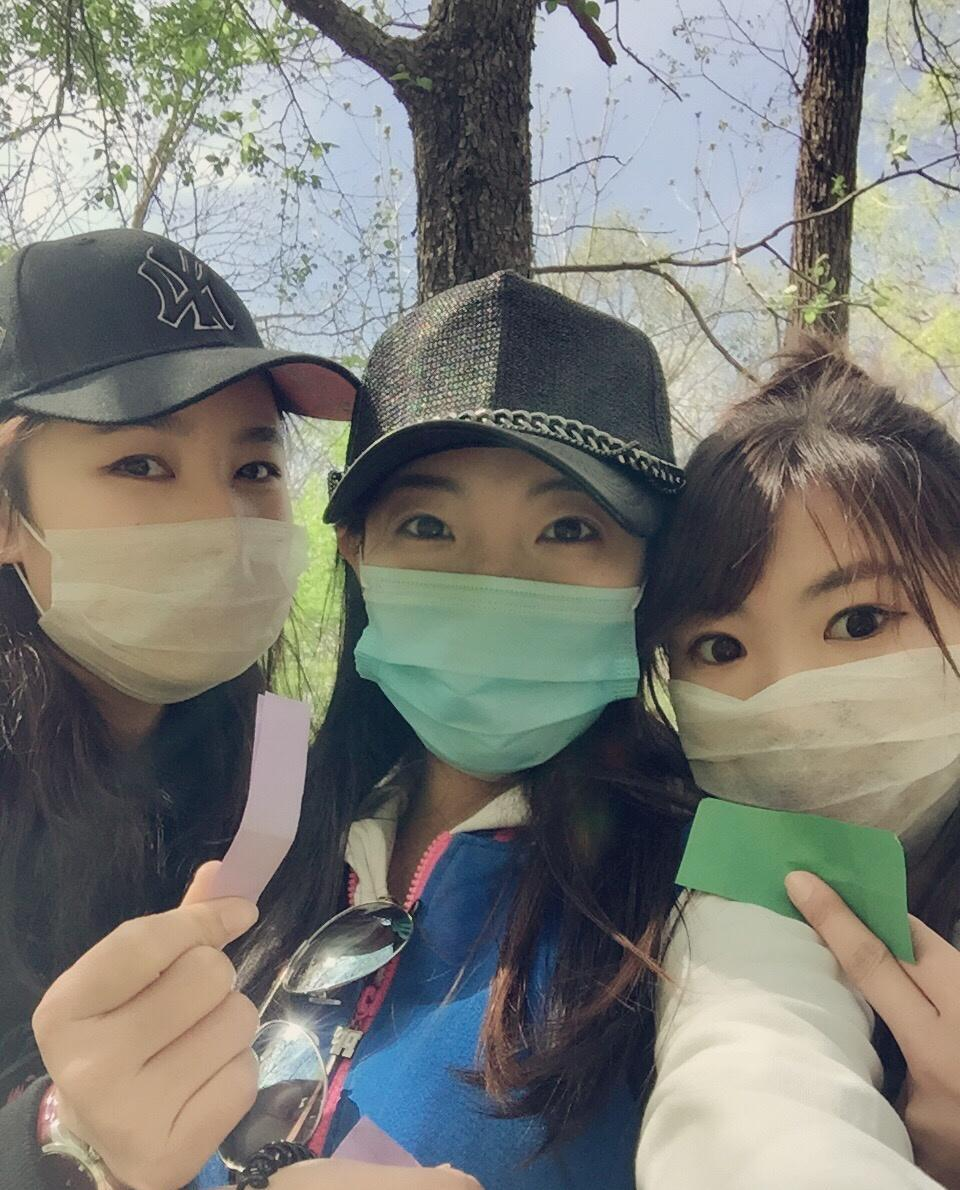OK: (340, 465, 654, 779), (37, 395, 336, 694), (669, 553, 952, 836)
